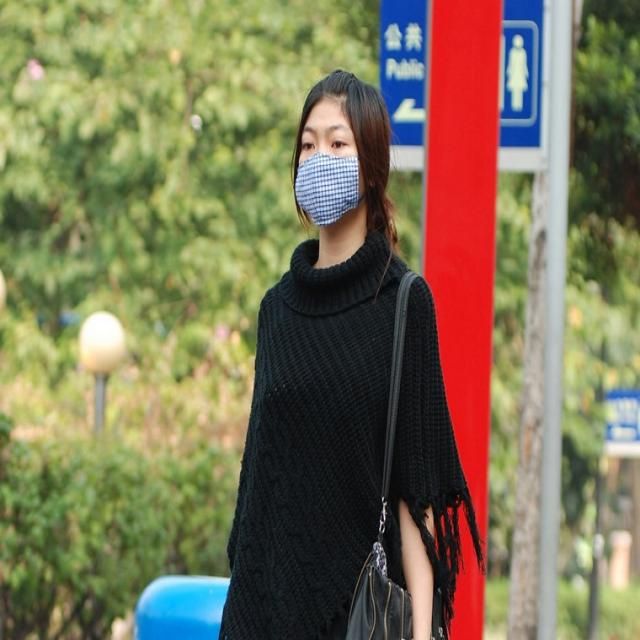mask: (294, 95, 364, 223)
